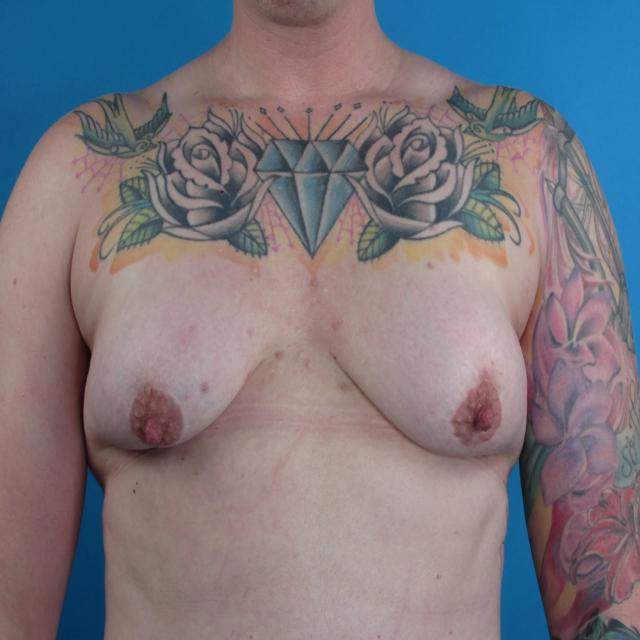Seno ileso: (313, 235, 534, 477), (76, 237, 296, 478)
